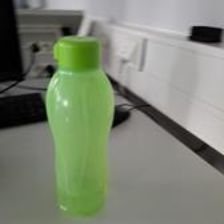bottle: (41, 33, 118, 216)
